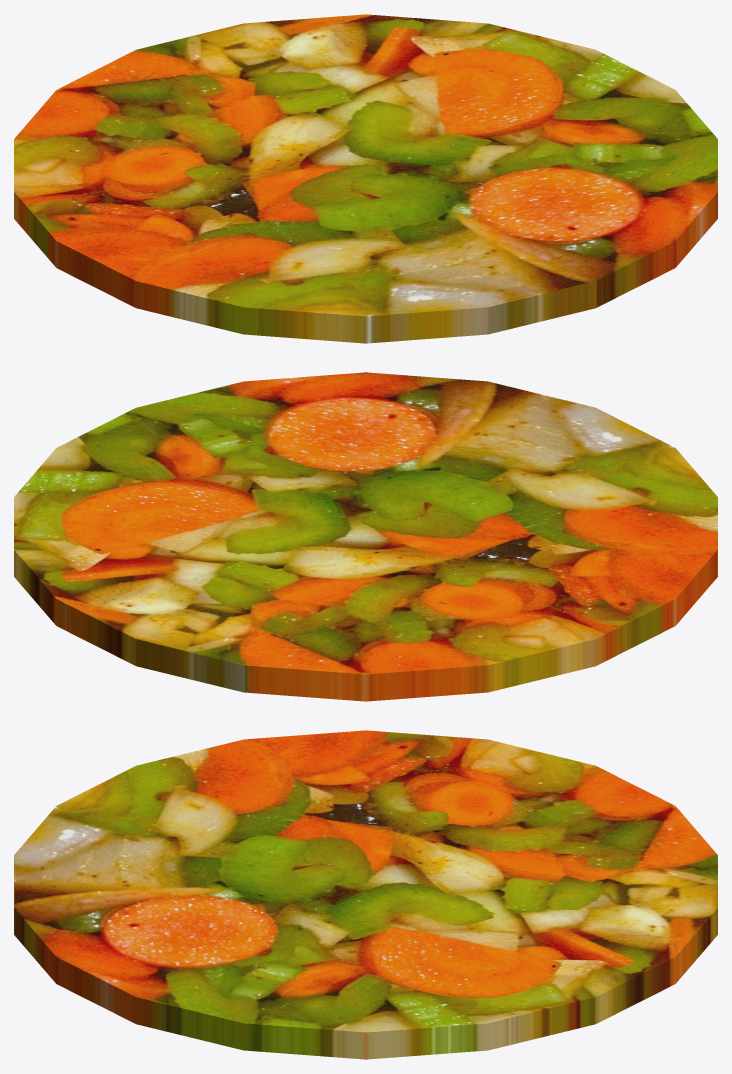
The model's file is Veggies.FBX.
The picture shows the model from 3 angles, top to bottom: view 1: azimuth 30°, elevation 25°; view 2: azimuth 150°, elevation 25°; view 3: azimuth 270°, elevation 25°; orthographic projection.
Visible parts, largest first — view 1: Veggies; view 2: Veggies; view 3: Veggies.
Boxes of the visible parts, box(x1,y1,x2,y2) form: Veggies: box(14, 14, 717, 343); Veggies: box(14, 372, 717, 701); Veggies: box(14, 730, 717, 1059).
Bounding box in the file's own units: 64.88 × 2.72 × 63.89.
Materials: 1 (1 with a texture image).
